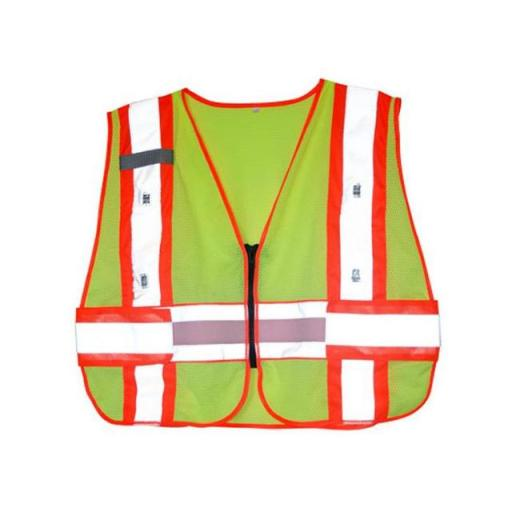vest: (18, 75, 476, 438)
